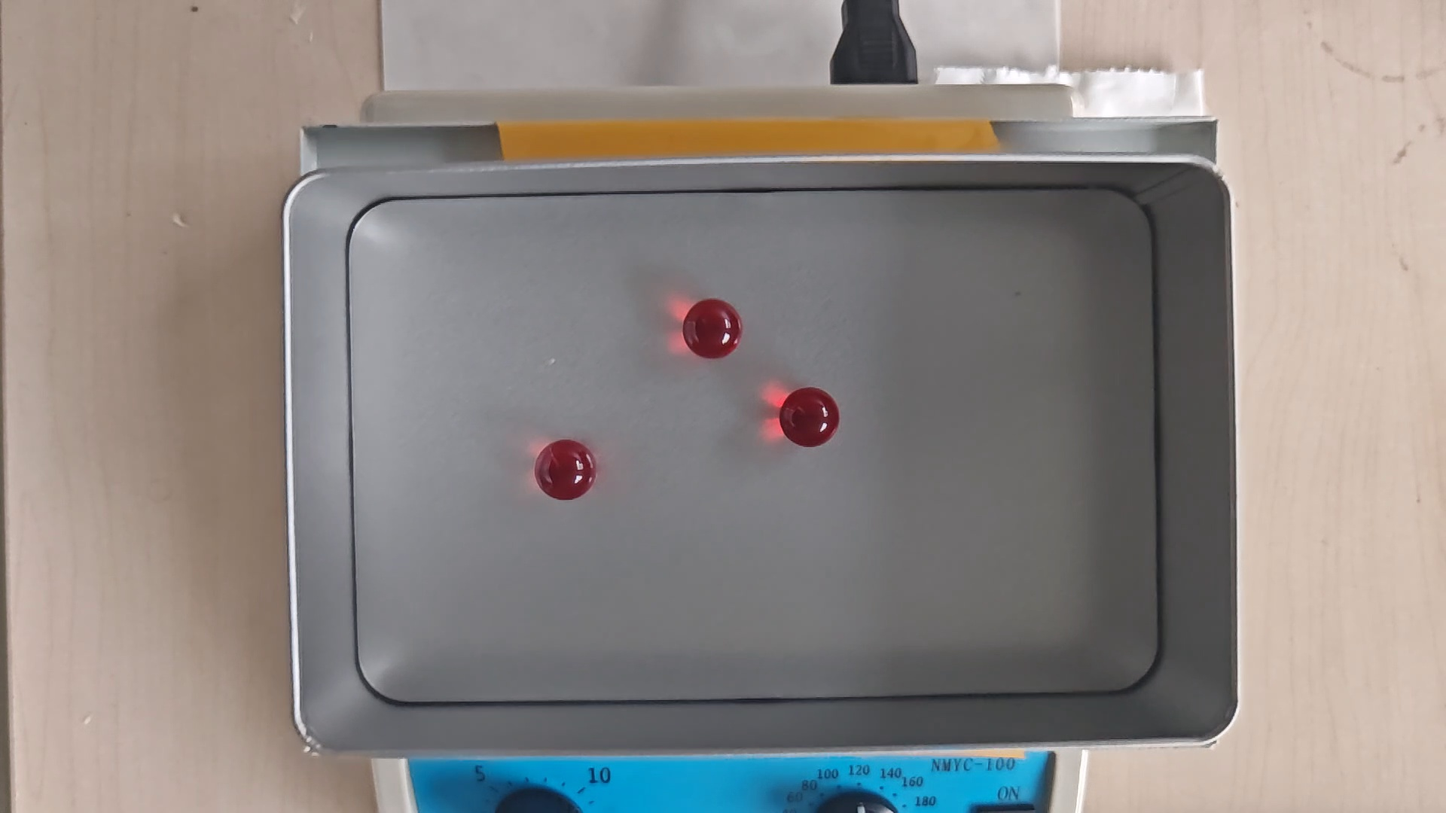ball: (781, 386, 840, 450), (683, 296, 741, 359), (537, 440, 596, 499)
container: (348, 191, 1164, 702)
